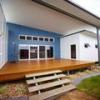stairs: (24, 71, 78, 100)
